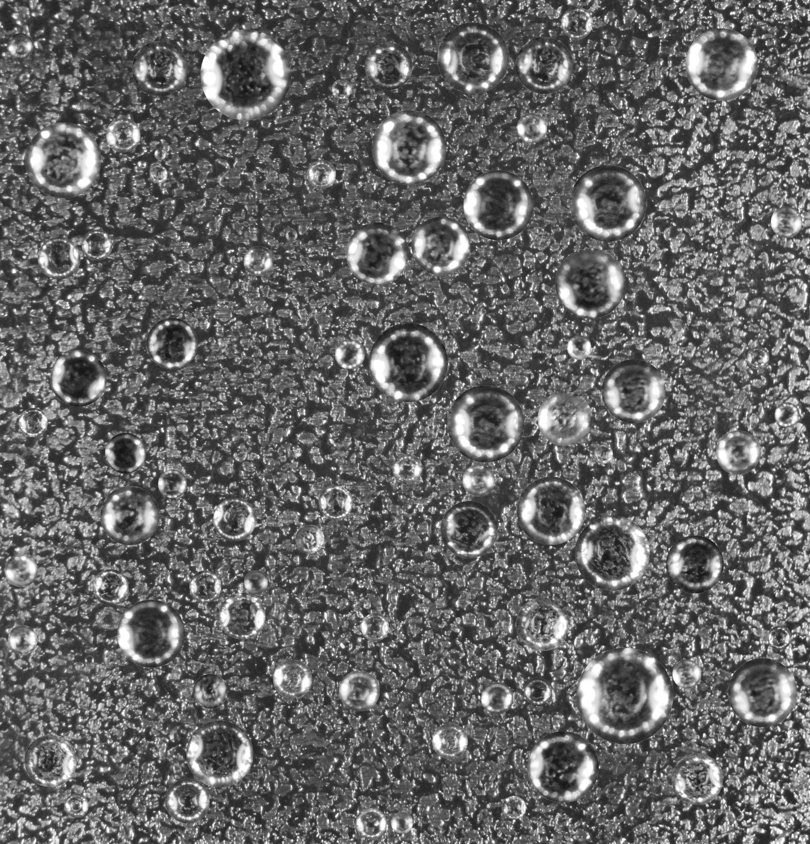Bubble: (576, 647, 673, 744), (200, 29, 291, 120), (368, 323, 447, 402), (447, 385, 524, 462), (569, 165, 646, 241), (25, 122, 100, 198), (371, 110, 446, 184), (575, 515, 649, 590), (685, 28, 757, 100), (437, 22, 508, 93), (527, 731, 598, 802), (463, 170, 533, 240), (555, 248, 625, 318), (728, 658, 797, 727), (517, 476, 585, 544), (117, 599, 184, 667), (186, 720, 253, 787), (601, 359, 665, 423), (346, 222, 408, 284), (411, 216, 470, 275), (100, 486, 159, 545), (666, 535, 723, 593), (440, 501, 497, 558), (515, 36, 572, 93), (50, 350, 106, 406), (537, 391, 592, 446), (132, 41, 187, 96), (516, 597, 569, 650), (24, 734, 76, 787), (146, 317, 197, 368), (671, 753, 722, 804), (218, 592, 265, 639), (365, 42, 412, 89), (165, 778, 209, 823), (716, 430, 760, 474), (37, 236, 80, 279), (213, 498, 256, 541), (339, 670, 379, 711), (105, 432, 145, 473), (273, 659, 311, 698), (92, 569, 128, 605), (432, 723, 467, 759), (105, 117, 140, 152), (318, 485, 352, 519), (193, 674, 227, 708), (5, 554, 37, 586), (481, 682, 513, 714), (189, 570, 221, 602), (462, 464, 494, 496), (561, 6, 592, 38), (355, 808, 386, 839), (81, 229, 112, 260), (771, 206, 802, 237), (517, 112, 547, 142), (392, 454, 422, 484), (334, 339, 364, 369), (7, 625, 37, 654), (243, 246, 273, 275), (672, 659, 701, 688), (295, 524, 324, 553), (18, 408, 47, 437), (158, 469, 186, 498), (307, 160, 335, 188), (361, 613, 388, 641), (524, 677, 551, 704), (7, 33, 33, 59), (774, 402, 799, 427), (64, 793, 88, 817), (567, 335, 591, 359), (244, 570, 267, 594), (767, 626, 791, 649), (502, 796, 525, 819), (747, 346, 769, 369), (391, 812, 412, 833), (331, 79, 351, 98), (594, 444, 613, 463), (149, 165, 167, 183), (285, 229, 297, 241), (154, 147, 166, 159), (84, 655, 94, 664)
